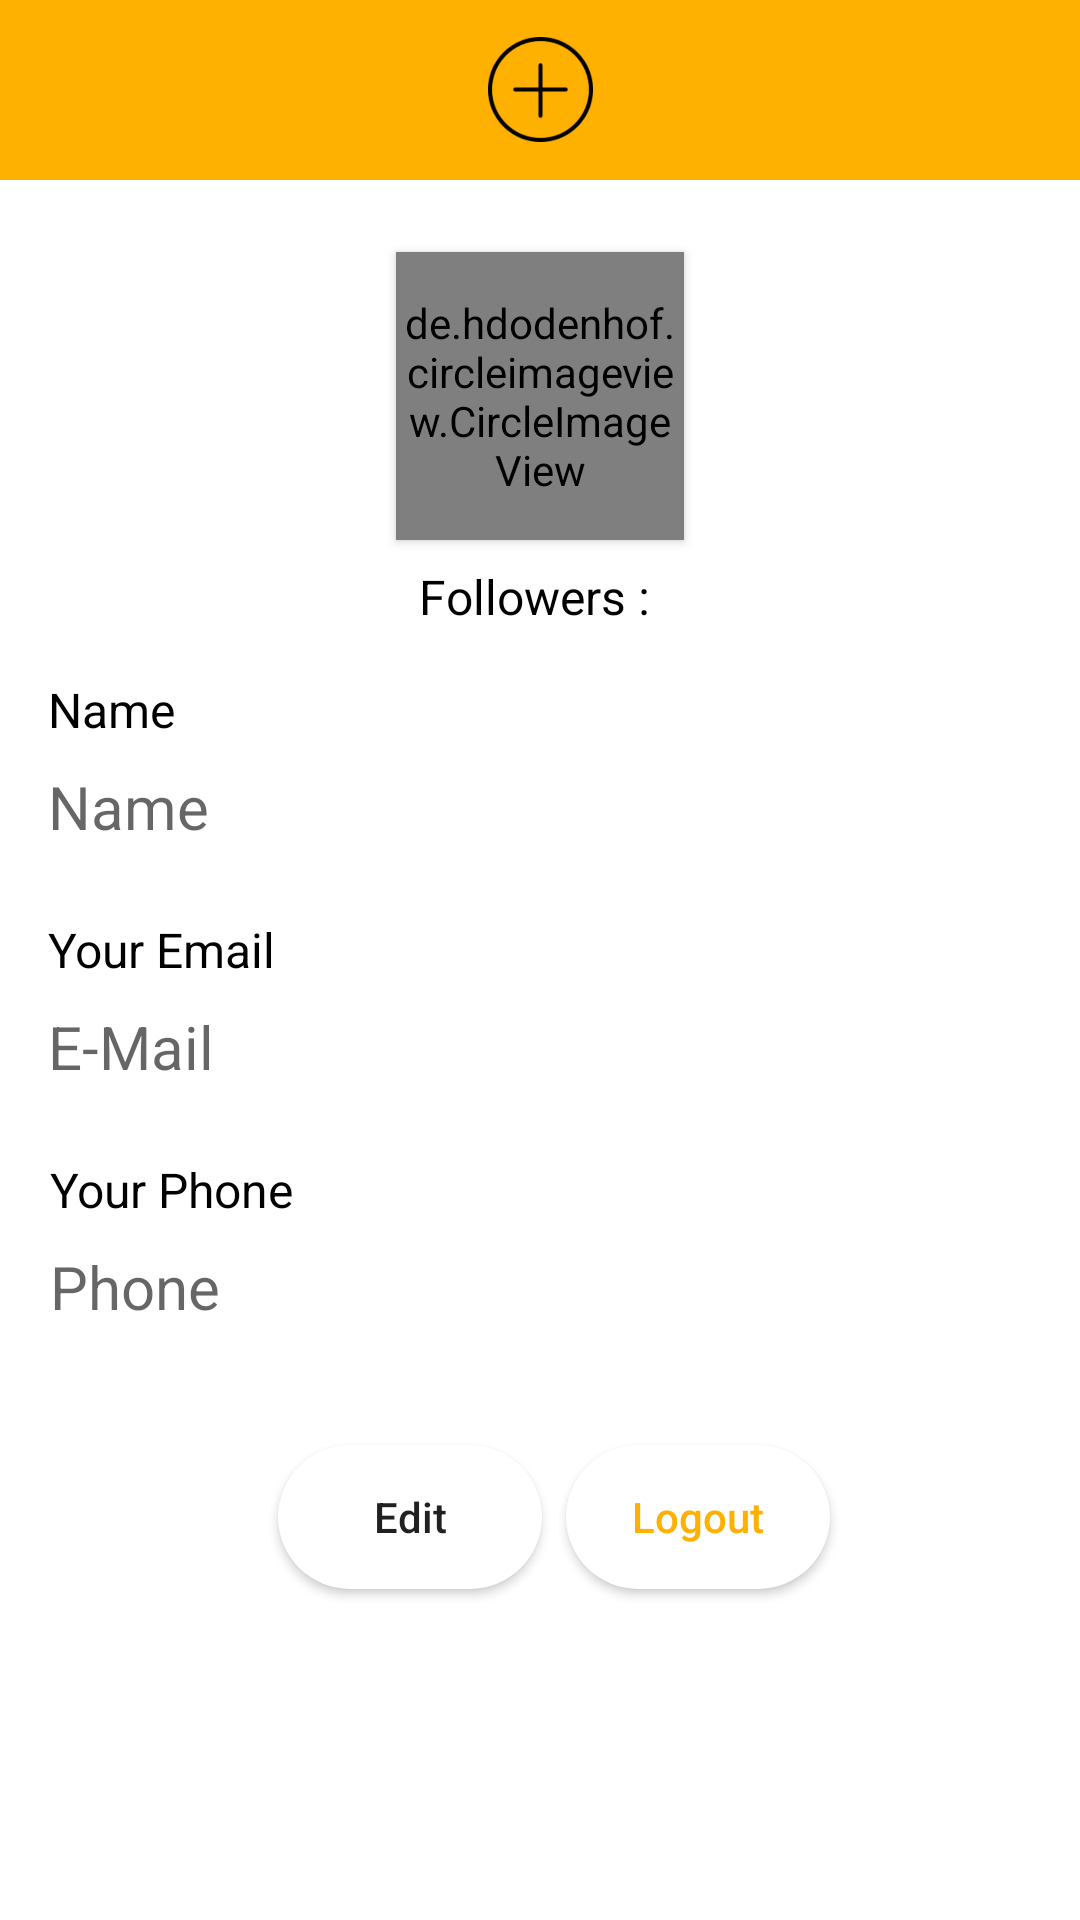

Where icons sit on this 1080px x 1920px app screen, as box=[x1, y1, x2, y2]:
plus: box=[488, 37, 593, 142]
